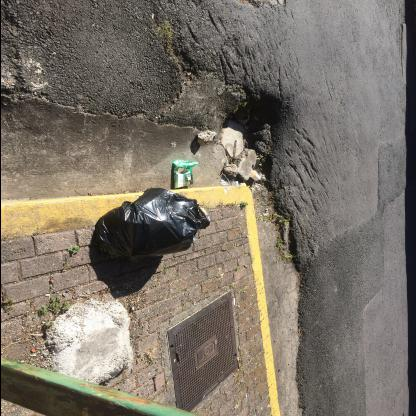plastik: (94, 187, 210, 257), (171, 160, 197, 189)
